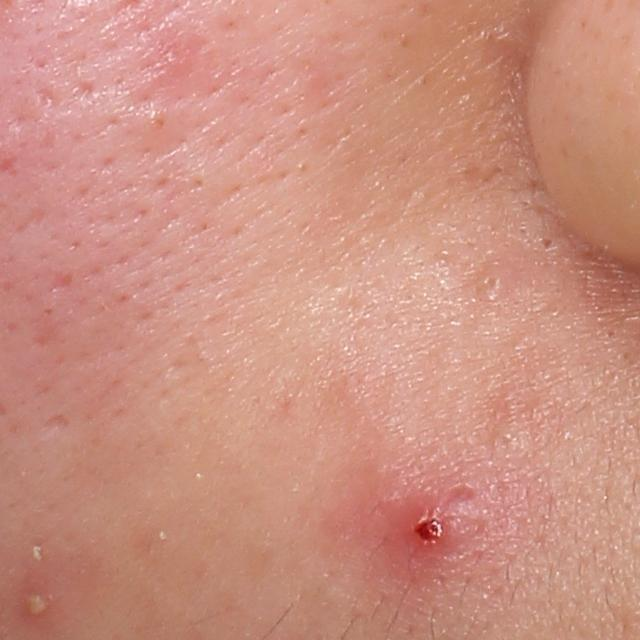atrophic_scar: (16, 205, 49, 234), (45, 269, 72, 293), (41, 413, 72, 430)
comedo: (478, 267, 507, 302), (145, 105, 174, 134), (535, 233, 559, 254)
papule: (389, 483, 476, 560)
pustule: (19, 580, 58, 628)
